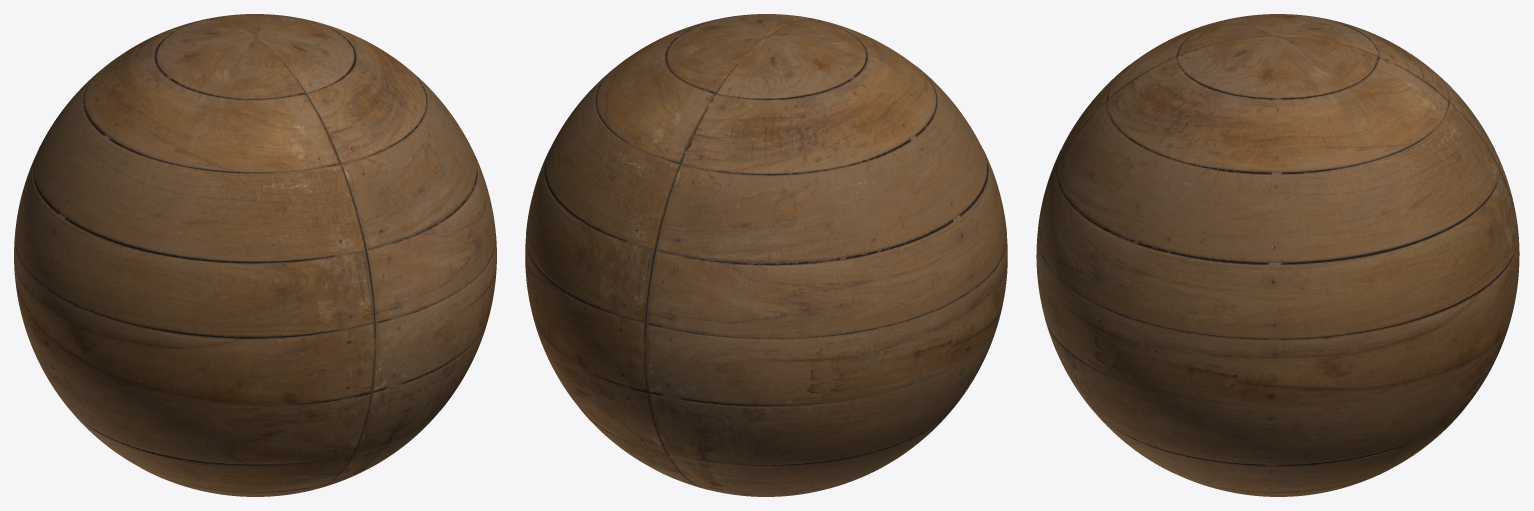
Rendered from wood_planks_2k.gltf.
3 renders of one model, left to right at view 1: azimuth 30°, elevation 25°; view 2: azimuth 150°, elevation 25°; view 3: azimuth 270°, elevation 25°, orthographic.
Visible parts, largest first — view 1: sphere_gltf; view 2: sphere_gltf; view 3: sphere_gltf.
Boxes of the visible parts, x1=… form: sphere_gltf: x1=14, y1=14, x2=496, y2=496; sphere_gltf: x1=525, y1=14, x2=1007, y2=496; sphere_gltf: x1=1036, y1=14, x2=1519, y2=496.
Bounding box in the file's own units: 1.5 × 1.5 × 1.5.
Materials: 1 (1 with a texture image).
